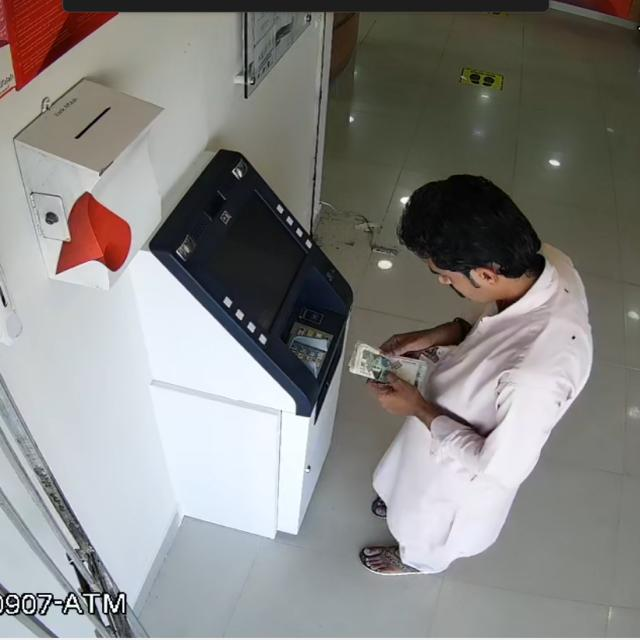note: (346, 336, 434, 401)
